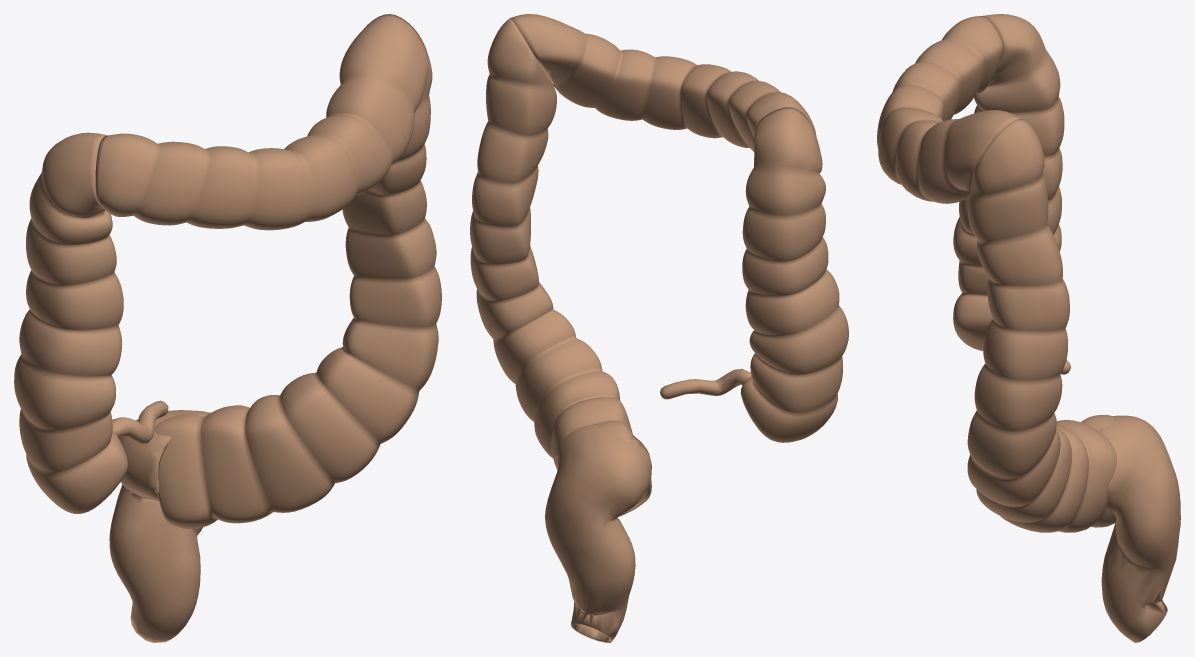
Rendered from large-intestine.glb.
3 views of the same model, side by side, from view 1: azimuth 30°, elevation 25°; view 2: azimuth 150°, elevation 25°; view 3: azimuth 270°, elevation 25° (orthographic). The views are drawn at different scales.
Visible parts, largest first — view 1: real-large-intestine-descending-colon, real-large-intestine-transverse-colon, real-large-intestine-ascending-colon, real-large-intestine-sigmoid-colon, real-large-intestine-vermiform-appendix; view 2: real-large-intestine-descending-colon, real-large-intestine-ascending-colon, real-large-intestine-transverse-colon, real-large-intestine-sigmoid-colon, real-large-intestine-vermiform-appendix; view 3: real-large-intestine-descending-colon, real-large-intestine-transverse-colon, real-large-intestine-sigmoid-colon, real-large-intestine-ascending-colon.
Part boxes in pixels (left/top/right/bottom): real-large-intestine-descending-colon: left=154, top=18, right=441, bottom=528; real-large-intestine-transverse-colon: left=95, top=14, right=429, bottom=230; real-large-intestine-ascending-colon: left=14, top=132, right=127, bottom=513; real-large-intestine-sigmoid-colon: left=109, top=410, right=210, bottom=642; real-large-intestine-vermiform-appendix: left=112, top=400, right=168, bottom=443; real-large-intestine-descending-colon: left=470, top=18, right=651, bottom=516; real-large-intestine-ascending-colon: left=740, top=107, right=848, bottom=442; real-large-intestine-transverse-colon: left=510, top=14, right=816, bottom=151; real-large-intestine-sigmoid-colon: left=545, top=424, right=651, bottom=642; real-large-intestine-vermiform-appendix: left=660, top=368, right=751, bottom=399; real-large-intestine-descending-colon: left=967, top=119, right=1117, bottom=532; real-large-intestine-transverse-colon: left=877, top=16, right=1022, bottom=203; real-large-intestine-sigmoid-colon: left=1100, top=415, right=1180, bottom=642; real-large-intestine-ascending-colon: left=953, top=14, right=1064, bottom=350.
Bounding box in the file's own units: 0.2281 × 0.3314 × 0.1531.
